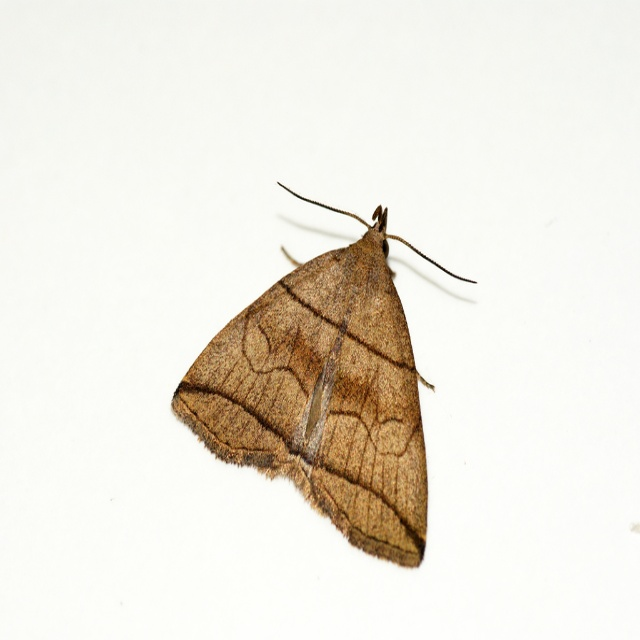Moths and butterflies: (166, 165, 481, 576)
